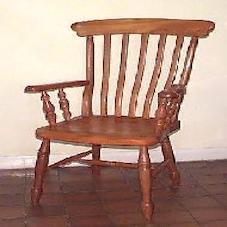chair: (6, 8, 218, 213)
